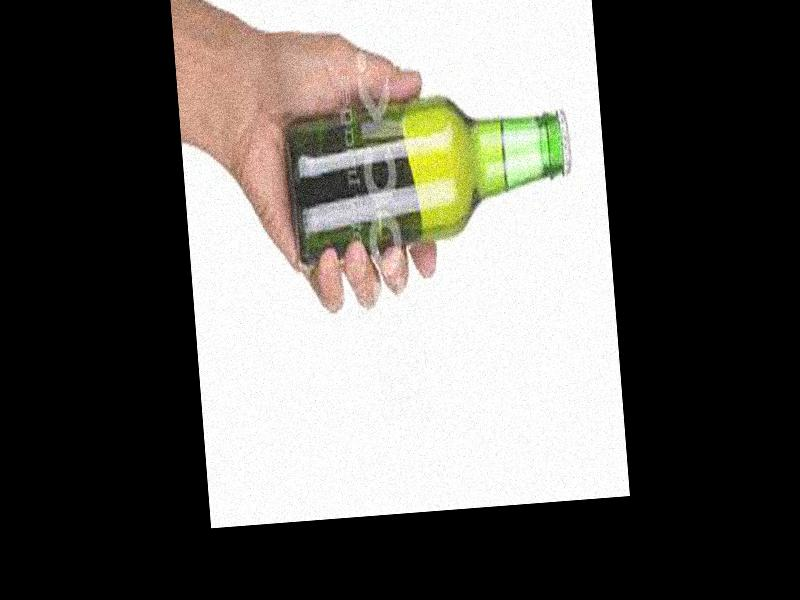Beer: (283, 83, 577, 257)
